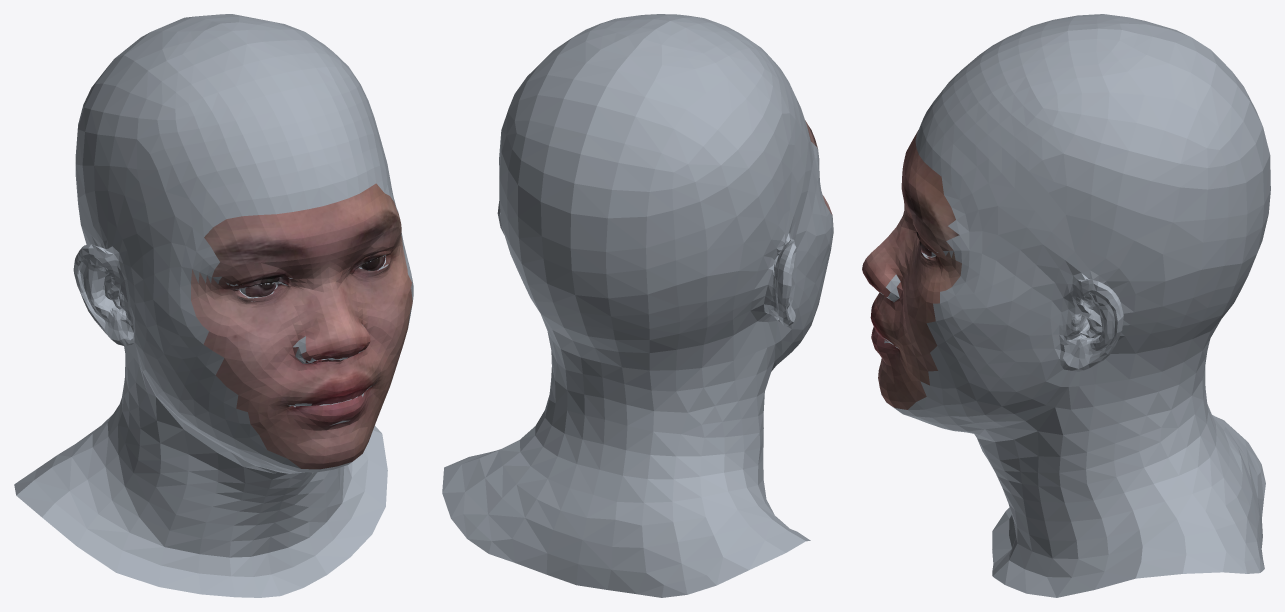
The model's file is head.photo.obj.
3 views of the same model, side by side, from view 1: azimuth 30°, elevation 25°; view 2: azimuth 150°, elevation 25°; view 3: azimuth 270°, elevation 25° (orthographic). The views are drawn at different scales.
Size of the model in its own units: 221 by 323 by 223.
Materials: 2 (1 with a texture image).
